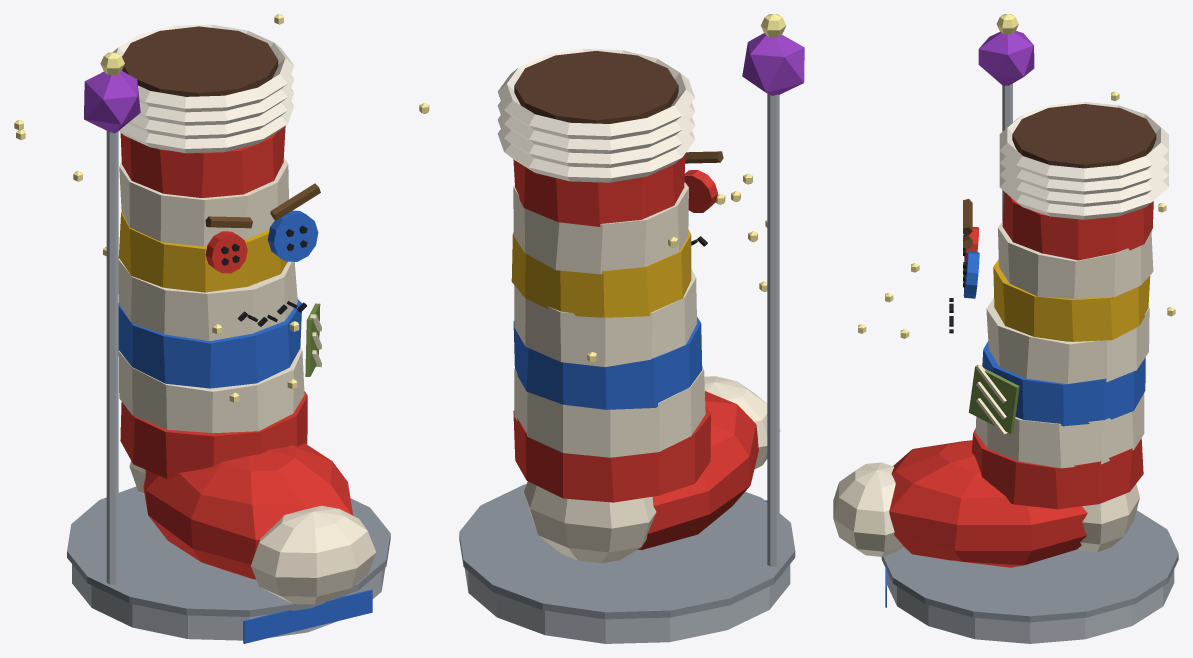
Rendered from greatSock.fbx.
The picture shows the model from 3 angles, left to right: view 1: azimuth 30°, elevation 25°; view 2: azimuth 150°, elevation 25°; view 3: azimuth 270°, elevation 25°; orthographic projection. The views are drawn at different scales.
Visible parts, largest first — view 1: greatSock; view 2: greatSock; view 3: greatSock.
Boxes of the visible parts, x1,y1,x2,y2 form: greatSock: (14, 14, 390, 643); greatSock: (419, 14, 804, 643); greatSock: (833, 14, 1178, 643).
Size of the model in its own units: 2.88 by 5.02 by 3.07.
